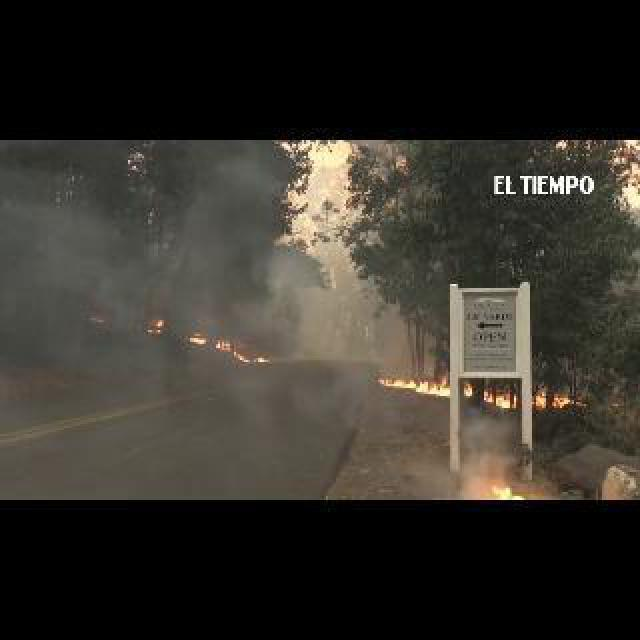Fire: (380, 372, 450, 398), (484, 388, 514, 408), (492, 486, 524, 500), (556, 394, 586, 406), (536, 392, 546, 410), (232, 352, 250, 362), (190, 336, 206, 346), (216, 340, 230, 350), (462, 382, 470, 394), (254, 356, 266, 362), (156, 320, 162, 326)
